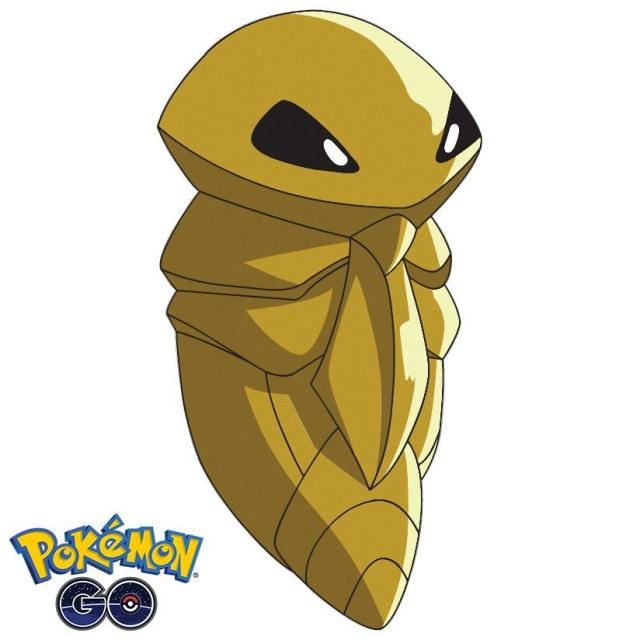Kakuna: (158, 5, 483, 629)
